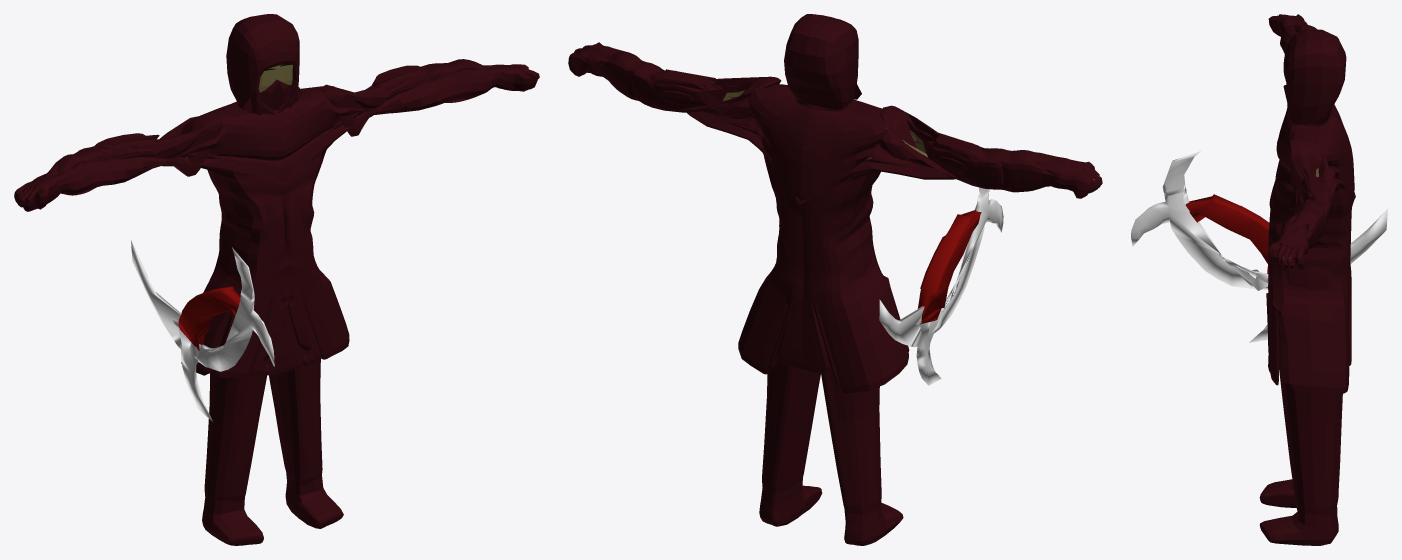
The model's file is enemy_budoucnost.fbx.
3 renders of one model, left to right at view 1: azimuth 30°, elevation 25°; view 2: azimuth 150°, elevation 25°; view 3: azimuth 270°, elevation 25°, orthographic. The views are drawn at different scales.
Visible parts, largest first — view 1: kabat, kalhoty, Cube, boty; view 2: kabat, kalhoty, Cube, boty; view 3: kabat, Cube, kalhoty, boty.
Boxes of the visible parts, x1,y1,x2,y2 form: kabat: [14, 14, 539, 379]; kalhoty: [204, 312, 322, 502]; Cube: [131, 240, 274, 421]; boty: [202, 472, 343, 545]; kabat: [568, 14, 1102, 394]; kalhoty: [762, 358, 881, 515]; Cube: [879, 187, 1003, 385]; boty: [759, 477, 903, 545]; kabat: [1266, 14, 1355, 394]; Cube: [1131, 151, 1387, 342]; kalhoty: [1279, 318, 1342, 515]; boty: [1259, 479, 1338, 545].
Size of the model in its own units: 377 by 348 by 166.
